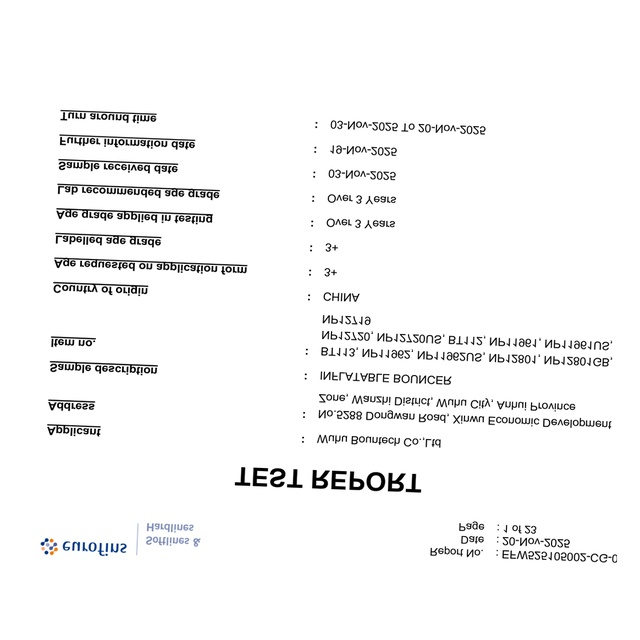eurofins: (34, 530, 134, 568)
